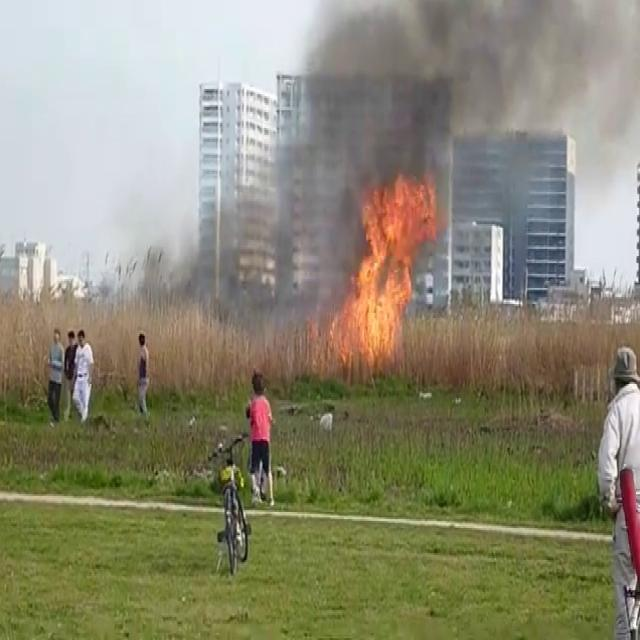Fire: (332, 170, 437, 368)
Smoke: (264, 0, 640, 261)
